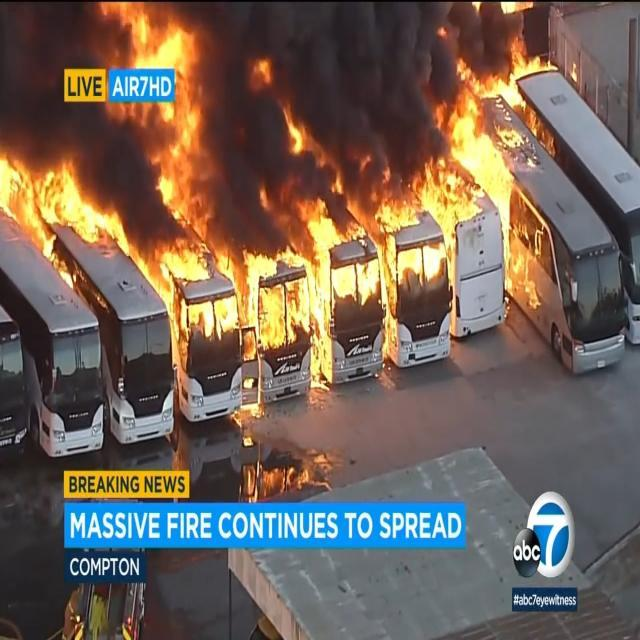Fire: (175, 12, 538, 375), (0, 108, 232, 384), (46, 0, 218, 70)
Smoke: (223, 0, 517, 200), (56, 121, 222, 232), (0, 4, 60, 164)
